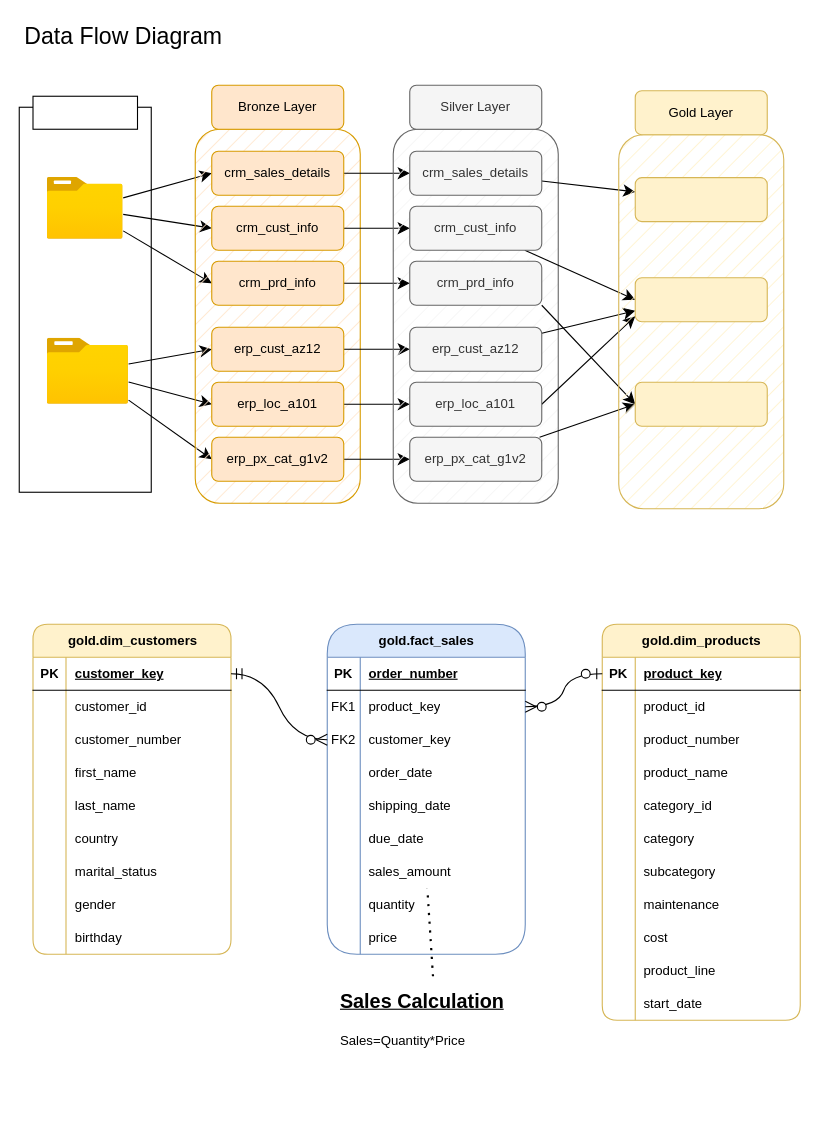
Image size: 820x1130. Some labels were removed from this diagram. The centre of each missing label's shape, as x and y in pixels:
CRM: (x=85, y=208)
dim_customers: (x=700, y=299)
dim_products: (x=700, y=403)
ERP: (x=87, y=371)
Fact_sales: (x=700, y=199)
Sources: (x=85, y=112)
